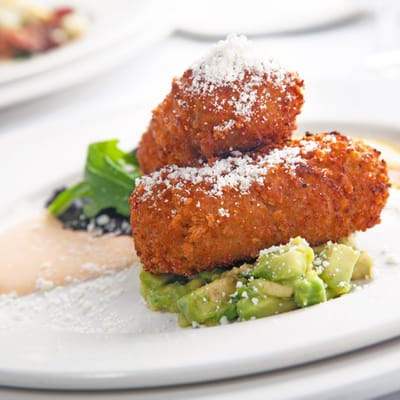curry: (48, 138, 141, 236)
